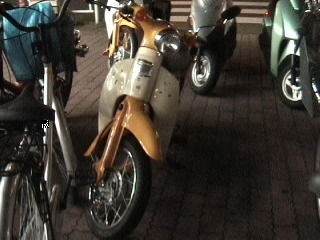car: (1, 1, 81, 240)
motorbike: (77, 1, 197, 240), (258, 1, 320, 110), (182, 1, 244, 94), (98, 1, 143, 72)
